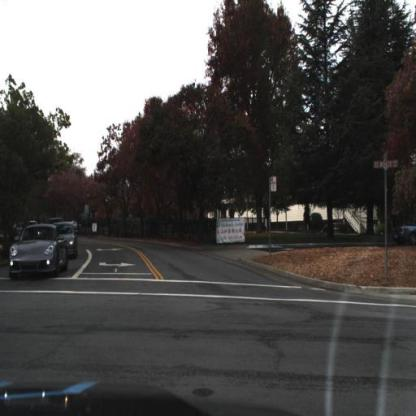car: (3, 222, 68, 283)
